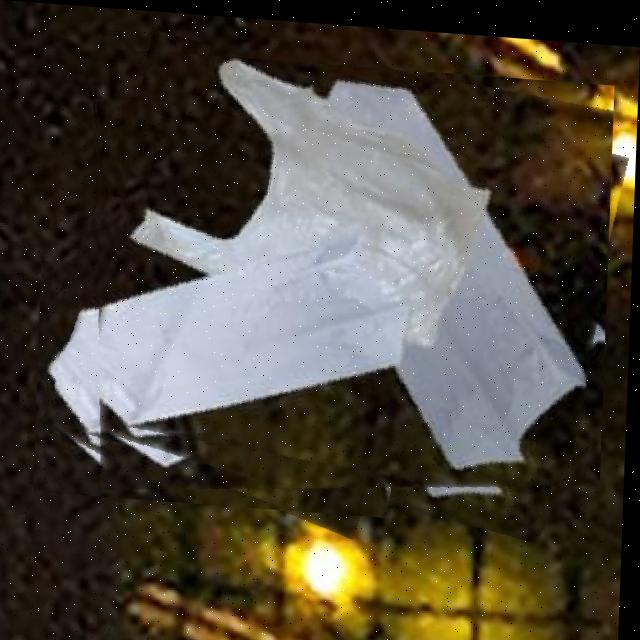plasticcover: (82, 46, 615, 517), (94, 67, 484, 367), (37, 215, 422, 513)
